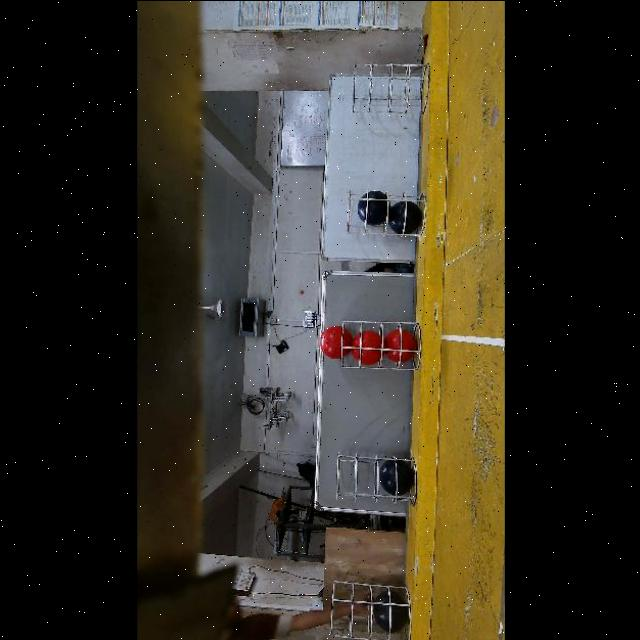P: (373, 590, 409, 632), (379, 460, 415, 494), (358, 191, 391, 224), (389, 201, 422, 233)
R: (352, 330, 386, 364), (384, 329, 417, 361), (321, 325, 353, 358)
S: (336, 314, 422, 381), (331, 577, 422, 639), (347, 60, 433, 120), (334, 451, 418, 511), (342, 183, 426, 239)
